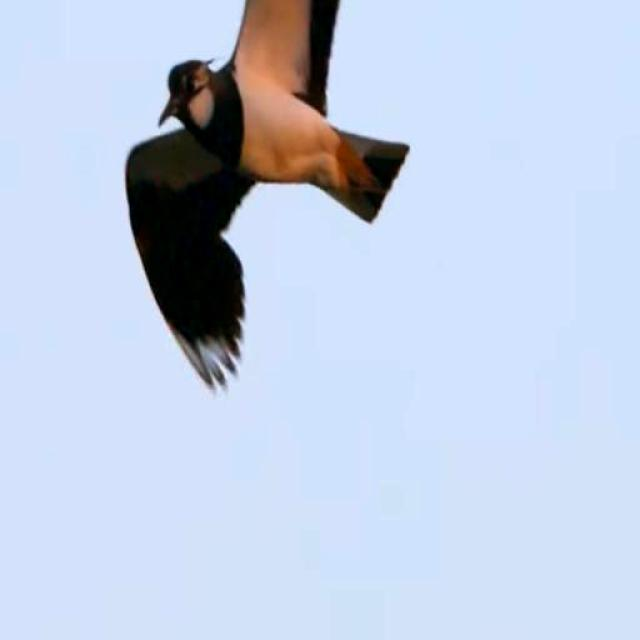airplane: (134, 0, 461, 391)
